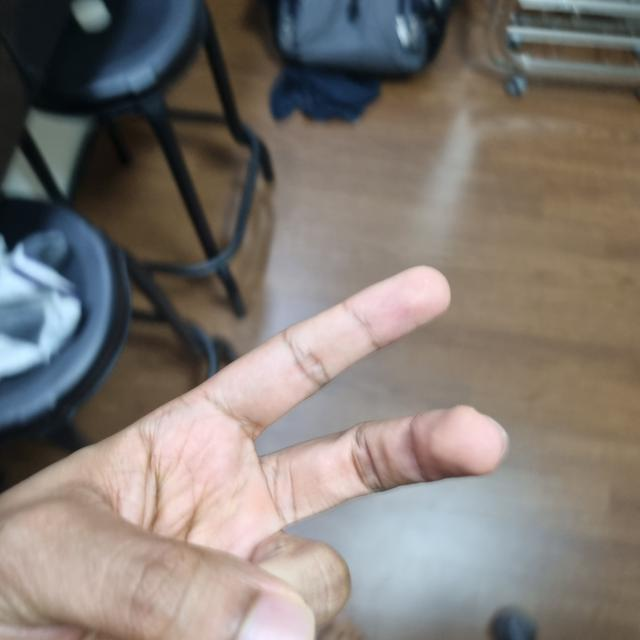Scissors: (4, 270, 518, 638)
